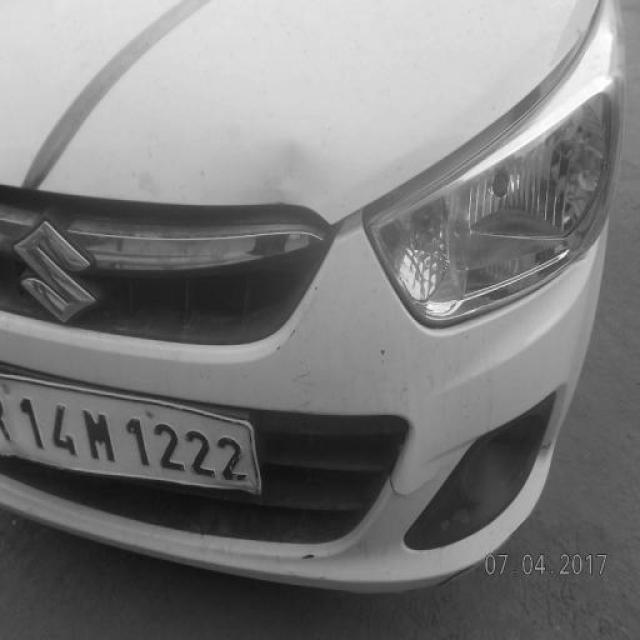dent: (267, 131, 324, 206)
scratch: (387, 465, 451, 503), (299, 549, 323, 565)
